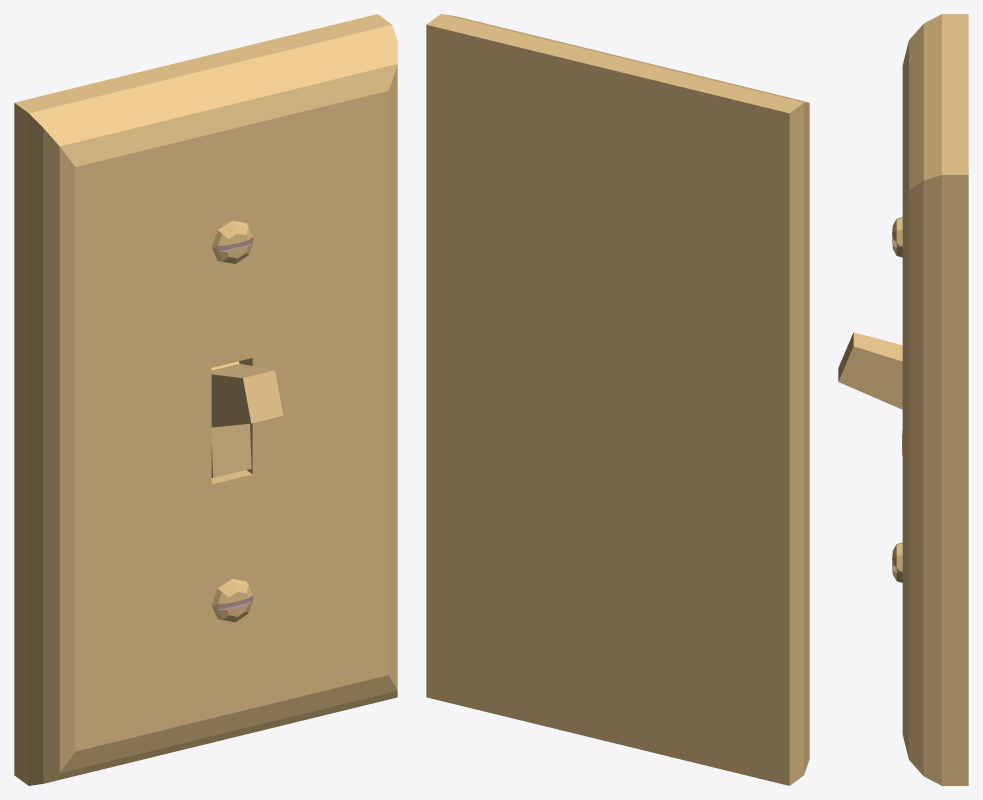
File: Light switch.glb
3 renders of one model, left to right at view 1: azimuth 30°, elevation 25°; view 2: azimuth 150°, elevation 25°; view 3: azimuth 270°, elevation 25°, orthographic. The views are drawn at different scales.
Visible parts, largest first — view 1: Light_switch_Cube.035; view 2: Light_switch_Cube.035; view 3: Light_switch_Cube.035.
Boxes of the visible parts, x1,y1,x2,y2 form: Light_switch_Cube.035: [14, 14, 397, 785]; Light_switch_Cube.035: [426, 14, 809, 785]; Light_switch_Cube.035: [838, 14, 968, 785].
Size of the model in its own units: 5.66 by 10.02 by 1.93.
